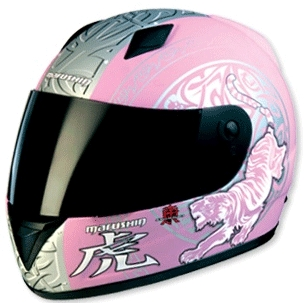helmet: (12, 1, 306, 268)
